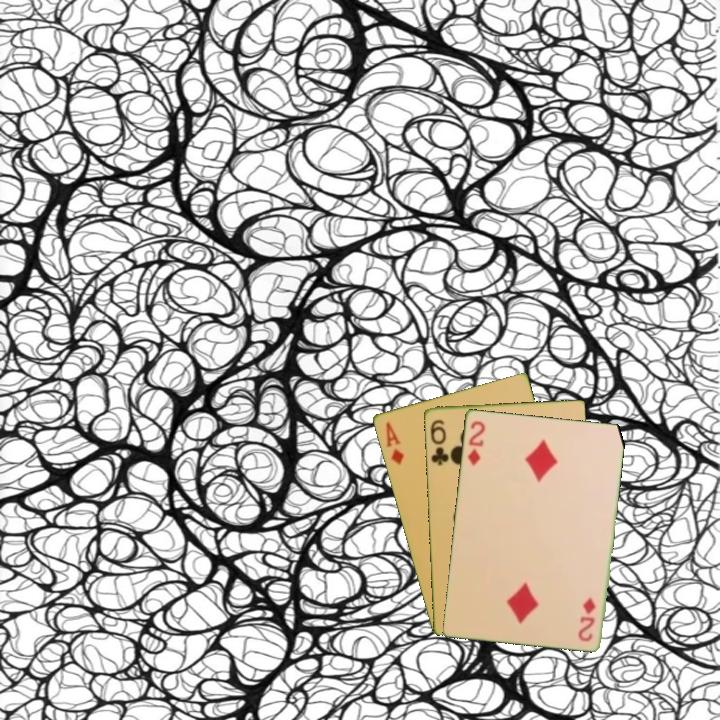2d: (464, 417, 488, 469), (577, 593, 598, 644)
6c: (426, 416, 451, 468)
Ad: (382, 418, 407, 468)
